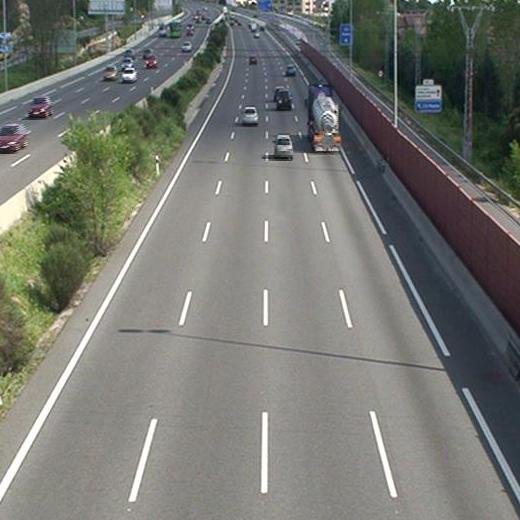car: (272, 134, 293, 159), (276, 88, 292, 111), (240, 107, 258, 127), (284, 63, 296, 75), (247, 55, 257, 66)
tank-truck: (308, 82, 343, 151)
